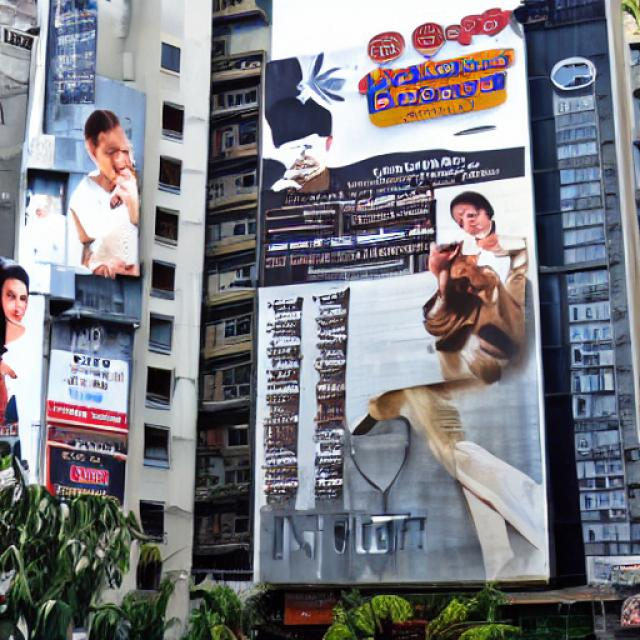Billboard: (251, 1, 554, 588)
